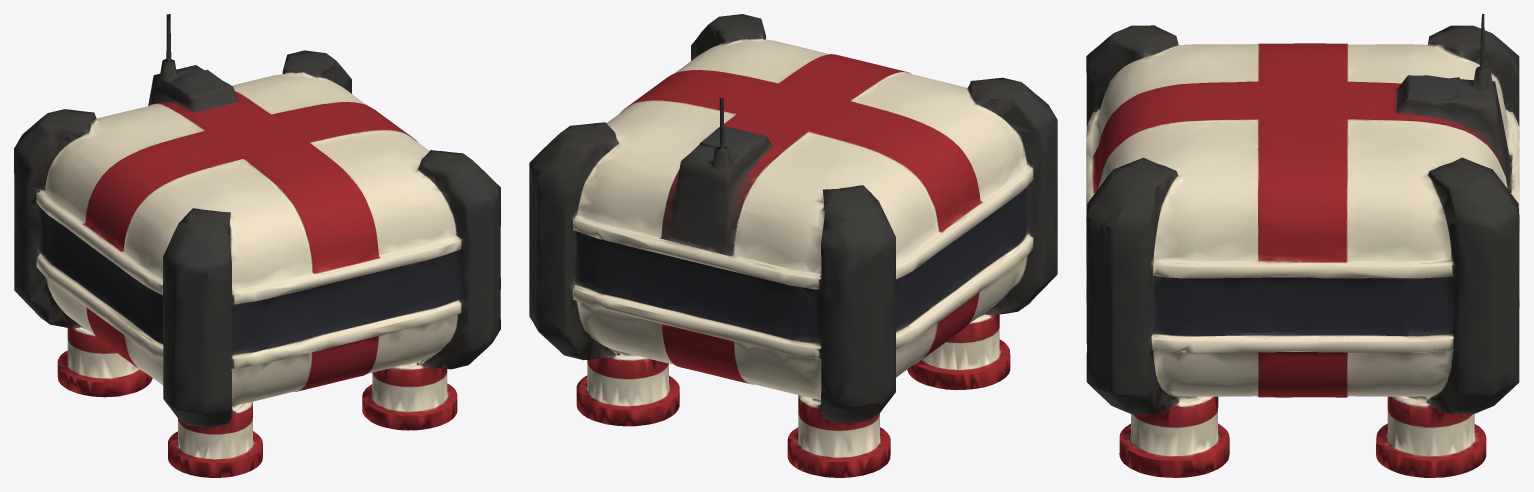
Rendered from module.glb.
3 renders of one model, left to right at view 1: azimuth 30°, elevation 25°; view 2: azimuth 150°, elevation 25°; view 3: azimuth 270°, elevation 25°, orthographic. The views are drawn at different scales.
Visible parts, largest first — view 1: tripo_node_704a6e6f-24de-4f45-ae43-a804eb2ab3ee; view 2: tripo_node_704a6e6f-24de-4f45-ae43-a804eb2ab3ee; view 3: tripo_node_704a6e6f-24de-4f45-ae43-a804eb2ab3ee.
Boxes of the visible parts, x1,y1,x2,y2 form: tripo_node_704a6e6f-24de-4f45-ae43-a804eb2ab3ee: [14, 14, 500, 477]; tripo_node_704a6e6f-24de-4f45-ae43-a804eb2ab3ee: [529, 14, 1057, 477]; tripo_node_704a6e6f-24de-4f45-ae43-a804eb2ab3ee: [1086, 14, 1519, 477].
Bounding box in the file's own units: 1 × 0.957 × 0.994.
1 material, 1 textured.
